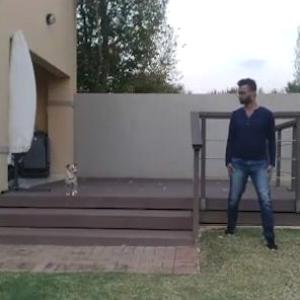follow: (223, 73, 275, 258)
